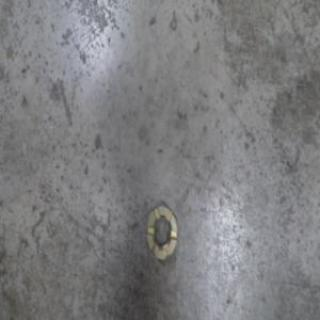Nuttrack_idkeyframe: (144, 198, 178, 262)
